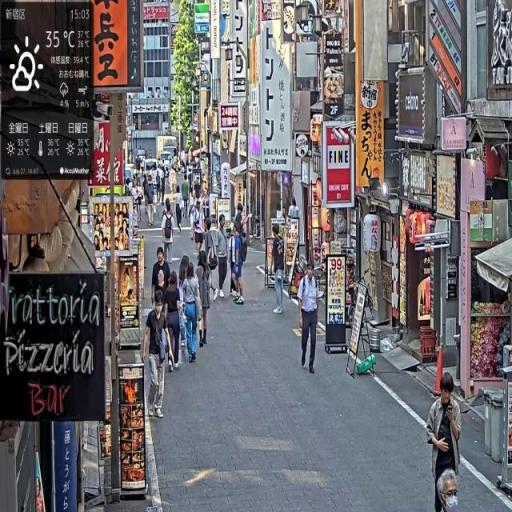person: (428, 374, 464, 512), (143, 292, 173, 423), (299, 259, 322, 377), (182, 261, 202, 365), (164, 272, 184, 374), (216, 214, 231, 299), (153, 248, 172, 311), (162, 201, 175, 274)
